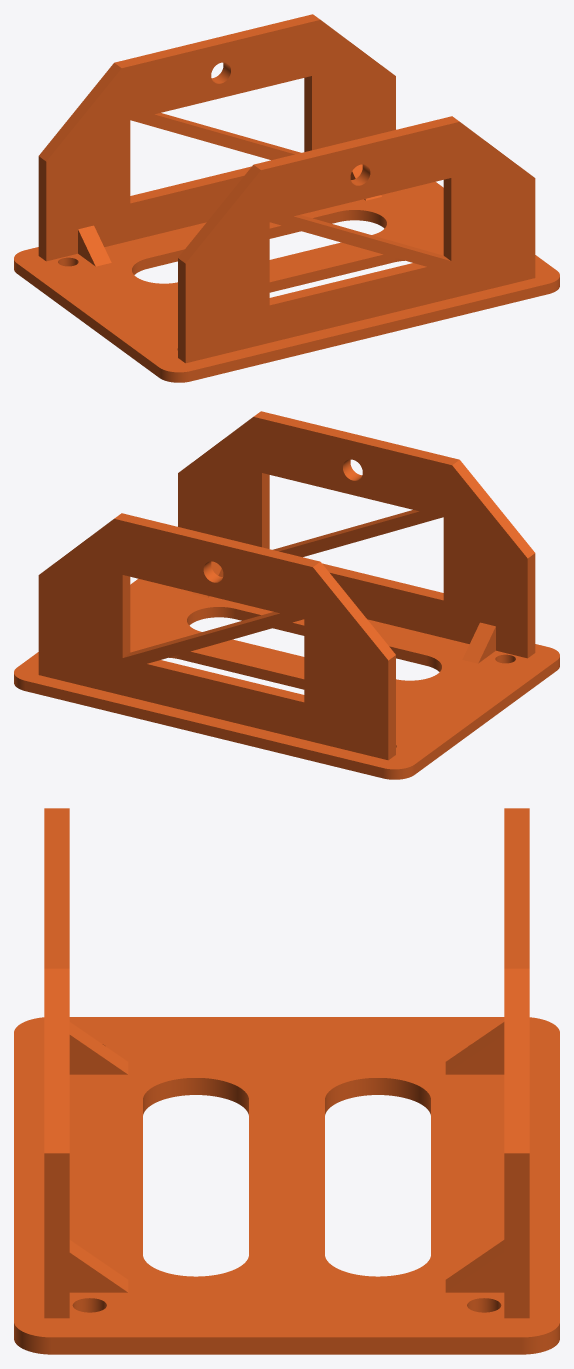
The picture shows the model from 3 angles, top to bottom: view 1: azimuth 30°, elevation 25°; view 2: azimuth 150°, elevation 25°; view 3: azimuth 270°, elevation 25°; orthographic projection. The views are drawn at different scales.
Visible parts, largest first — view 1: cradle_0; view 2: cradle_0; view 3: cradle_0.
Boxes of the visible parts, x1,y1,x2,y2 form: cradle_0: [14, 14, 559, 382]; cradle_0: [14, 411, 559, 779]; cradle_0: [14, 808, 559, 1354].
Bounding box in the file's own units: 100 × 44.5 × 72.
